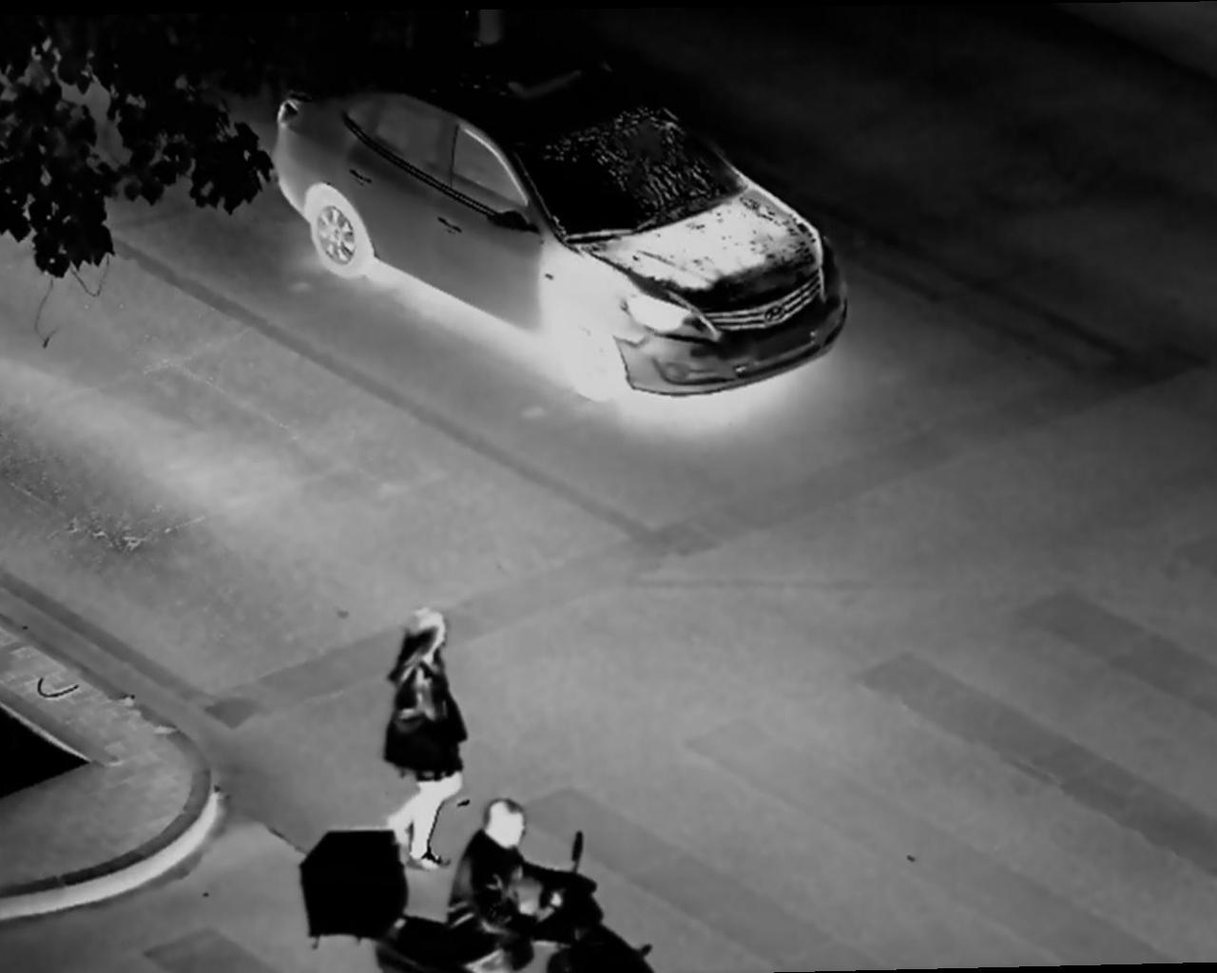person: (377, 602, 487, 880), (462, 792, 568, 973)
